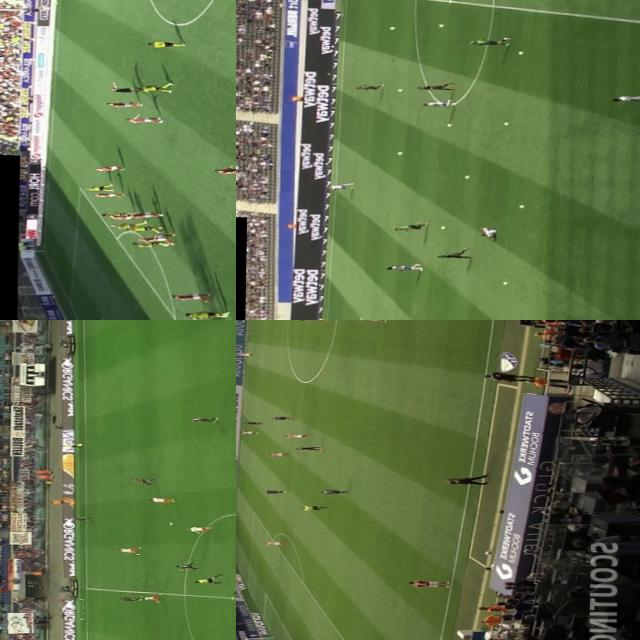ball: (434, 23, 446, 28), (395, 151, 405, 155), (164, 521, 174, 525), (499, 282, 508, 286), (462, 175, 470, 179), (501, 122, 509, 126), (516, 51, 524, 55), (438, 225, 446, 229), (396, 88, 403, 92), (386, 26, 393, 30), (516, 204, 522, 208), (445, 124, 452, 126)
player: (182, 310, 230, 320), (167, 291, 210, 302), (134, 234, 176, 245), (134, 82, 172, 94), (402, 579, 447, 589), (146, 39, 184, 50), (102, 99, 140, 110), (126, 114, 160, 126), (126, 208, 160, 220), (434, 248, 468, 260), (127, 240, 171, 249), (78, 184, 118, 193), (608, 95, 640, 106), (393, 222, 428, 232), (386, 263, 424, 272), (418, 82, 452, 92), (466, 38, 508, 46), (125, 224, 162, 233), (183, 416, 221, 424), (125, 476, 155, 486), (103, 213, 141, 220), (87, 192, 125, 199), (212, 166, 236, 177), (106, 224, 142, 231), (90, 165, 124, 172), (146, 496, 175, 504), (324, 183, 352, 191), (316, 488, 348, 495), (183, 524, 210, 532), (421, 100, 451, 107), (478, 226, 494, 238), (116, 547, 140, 555), (355, 85, 383, 91), (66, 515, 90, 522), (260, 540, 288, 546), (174, 562, 194, 570), (292, 447, 324, 452), (136, 596, 160, 602), (262, 489, 284, 494), (115, 596, 136, 601), (282, 434, 308, 438), (266, 452, 286, 457), (268, 416, 292, 420), (238, 430, 258, 434), (236, 352, 252, 357), (241, 421, 260, 425), (351, 320, 385, 322)
